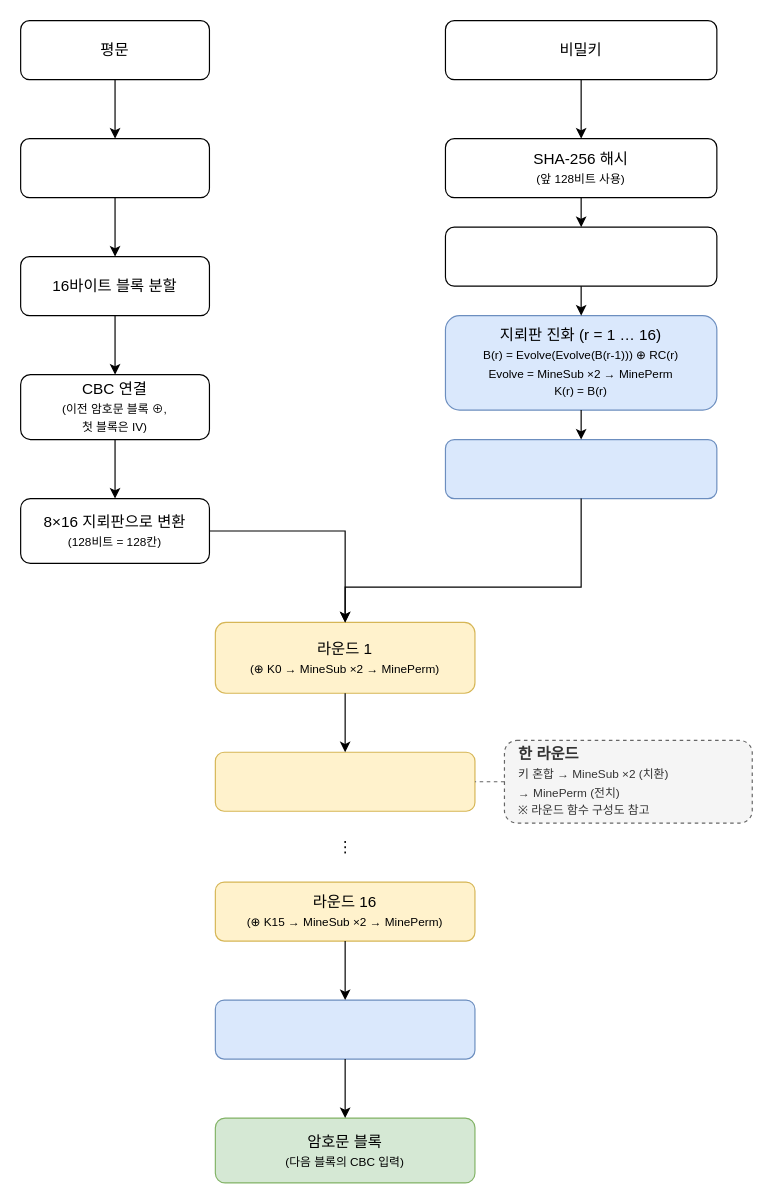
Some shapes in this 773 by 1204 pixel diagram are drawn without their labels. The centre of each missing label's shape, as x and y in pixels:
"라운드 2 (⊕ K1 → MineSub ×2 → MinePerm)" goes at [344,781].
"라운드 키 생성 (K0 … K16, 17개 × 128비트)" goes at [580,468].
"초기 지뢰판 B(0) 생성 (8×16 크기, K0 = B(0))" goes at [580,256].
"최종 키 혼합 (⊕ K16)" goes at [344,1029].
"패딩 (PKCS#7)" goes at [114,167].
